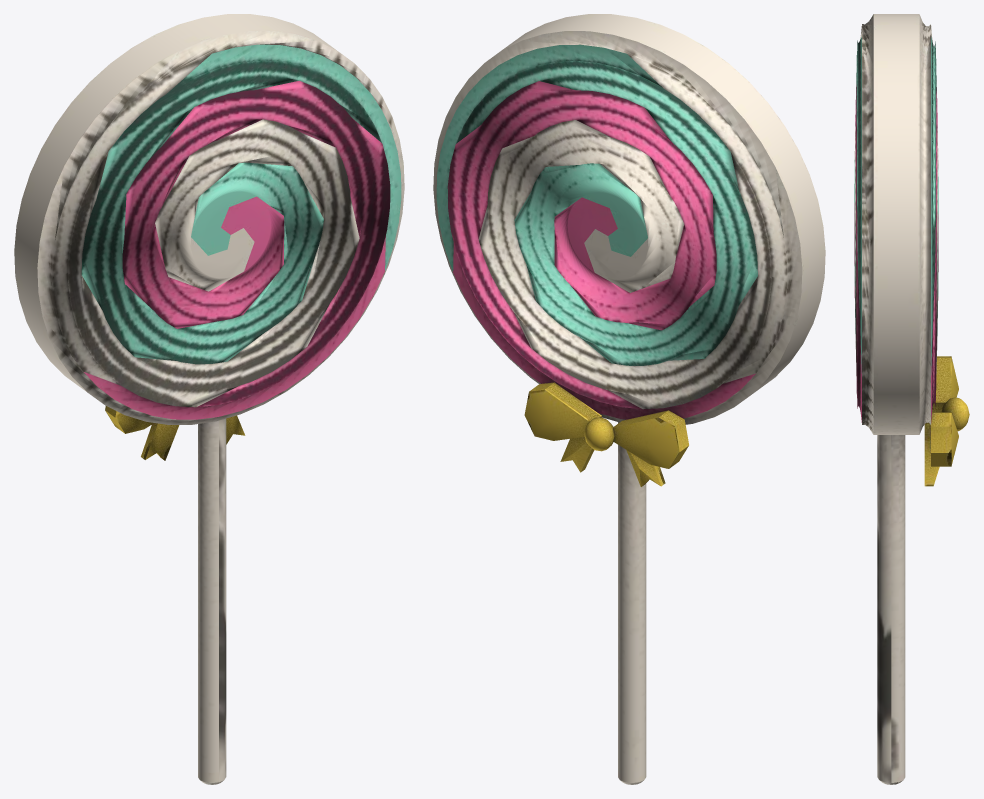
3 renders of one model, left to right at view 1: azimuth 30°, elevation 25°; view 2: azimuth 150°, elevation 25°; view 3: azimuth 270°, elevation 25°, orthographic.
Visible parts, largest first — view 1: Sugar_Cream, Candy_Mint, Candy_Pink, Lemon_Ribbon; view 2: Sugar_Cream, Candy_Mint, Candy_Pink, Lemon_Ribbon; view 3: Sugar_Cream, Lemon_Ribbon, Candy_Mint, Candy_Pink.
Part boxes in pixels (x1,y1,x2,y2): Sugar_Cream: [14, 14, 404, 784]; Candy_Mint: [81, 44, 401, 364]; Candy_Pink: [84, 80, 390, 419]; Lemon_Ribbon: [105, 406, 245, 460]; Sugar_Cream: [433, 14, 825, 784]; Candy_Mint: [436, 44, 757, 365]; Candy_Pink: [447, 81, 755, 419]; Lemon_Ribbon: [524, 382, 688, 486]; Sugar_Cream: [854, 14, 938, 784]; Lemon_Ribbon: [924, 356, 969, 486]; Candy_Mint: [854, 37, 938, 374]; Candy_Pink: [854, 84, 938, 422].
Bounding box in the file's own units: 0.3299 × 0.6449 × 0.0902.
Materials: 4 (4 with a texture image).
